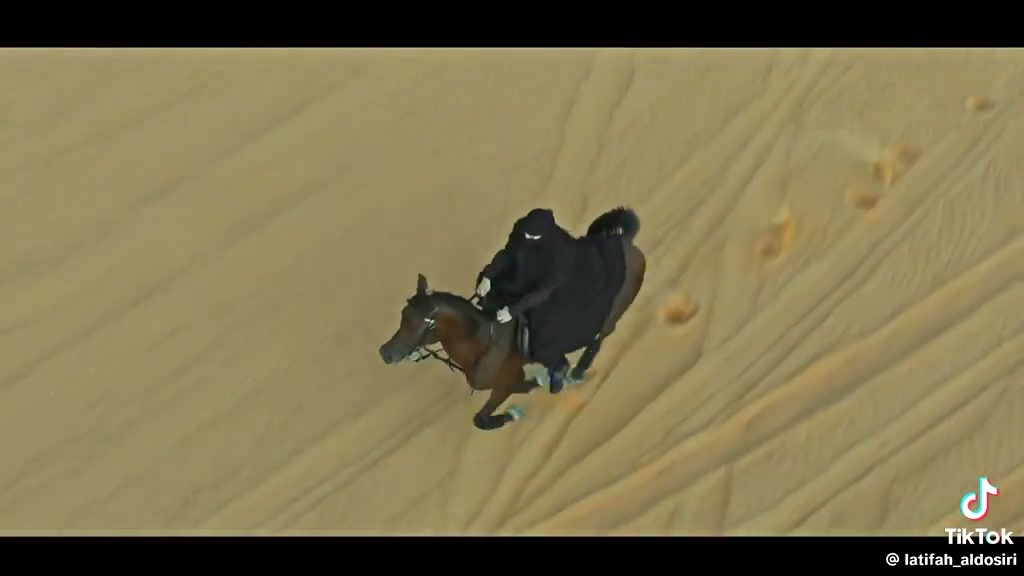animal_foot_print: (754, 213, 796, 268), (858, 148, 914, 178), (850, 177, 883, 225), (657, 302, 704, 335)
